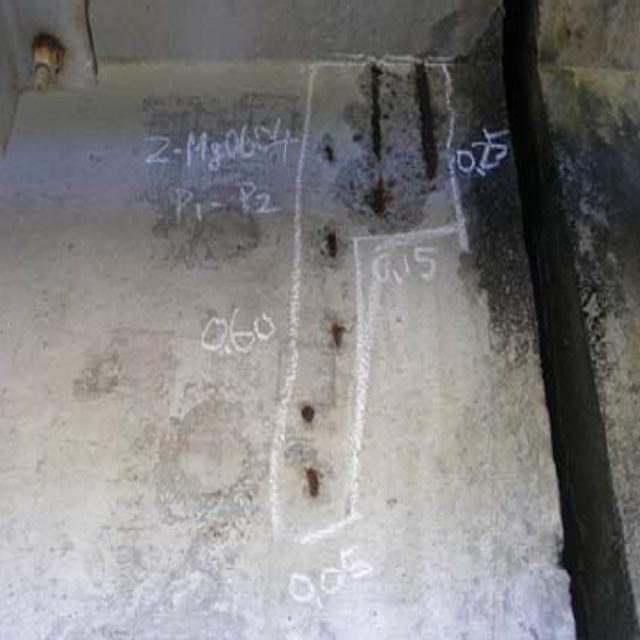spalling: (266, 50, 460, 569)
